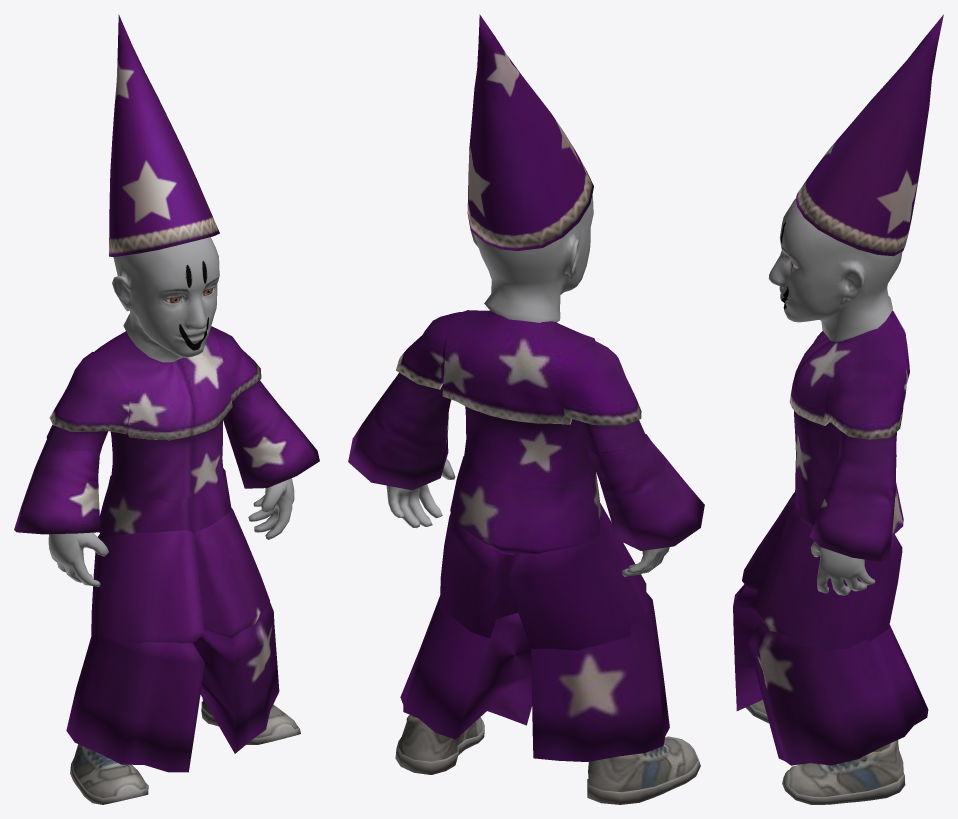
3 renders of one model, left to right at view 1: azimuth 30°, elevation 25°; view 2: azimuth 150°, elevation 25°; view 3: azimuth 270°, elevation 25°, orthographic. The views are drawn at different scales.
Parts seen in each view (by area): view 1: UpperTorso, RightLowerLeg, acc_HatAccessory, RightUpperLeg, Head, LeftLowerLeg, LeftUpperLeg, RightLowerArm, LeftLowerArm, RightUpperArm, LowerTorso, RightFoot (+4 smaller); view 2: UpperTorso, acc_HatAccessory, RightLowerLeg, RightUpperLeg, LeftLowerLeg, LowerTorso, RightLowerArm, LeftLowerArm, Head, RightUpperArm, LeftUpperLeg, RightFoot (+4 smaller); view 3: LeftLowerLeg, acc_HatAccessory, LeftUpperLeg, Head, UpperTorso, LeftUpperArm, LeftLowerArm, LeftFoot, RightLowerLeg, LeftHand, LowerTorso, RightUpperLeg.
Part boxes in pixels (x1,y1,x2,y2): UpperTorso: (94, 331, 232, 501); RightLowerLeg: (66, 629, 204, 772); acc_HatAccessory: (109, 14, 219, 257); RightUpperLeg: (91, 530, 204, 643); Head: (112, 237, 219, 362); LeftLowerLeg: (193, 602, 279, 753); LeftUpperLeg: (194, 508, 269, 638); RightLowerArm: (14, 440, 100, 534); LeftLowerArm: (223, 388, 319, 488); RightUpperArm: (46, 352, 129, 453); LowerTorso: (99, 468, 231, 536); RightFoot: (70, 744, 148, 804); UpperTorso: (442, 310, 595, 485); acc_HatAccessory: (467, 14, 593, 250); RightLowerLeg: (531, 592, 669, 761); RightUpperLeg: (507, 503, 647, 650); LeftLowerLeg: (400, 595, 531, 739); LowerTorso: (450, 456, 601, 555); RightLowerArm: (588, 433, 704, 550); LeftLowerArm: (348, 380, 450, 490); Head: (471, 194, 593, 322); RightUpperArm: (560, 340, 644, 453); LeftUpperLeg: (439, 513, 518, 638); RightFoot: (587, 736, 700, 804); LeftLowerLeg: (748, 623, 928, 765); acc_HatAccessory: (795, 14, 943, 256); LeftUpperLeg: (752, 508, 902, 650); Head: (768, 198, 902, 341); UpperTorso: (789, 311, 909, 487); LeftUpperArm: (824, 359, 906, 463); LeftLowerArm: (809, 456, 896, 561); LeftFoot: (782, 740, 905, 804); RightLowerLeg: (733, 584, 763, 710); LeftHand: (810, 541, 875, 595); LowerTorso: (794, 470, 903, 535); RightUpperLeg: (742, 492, 894, 591).
Bounding box in the file's own units: 3.48 × 7.71 × 2.
16 materials, 16 textured.
